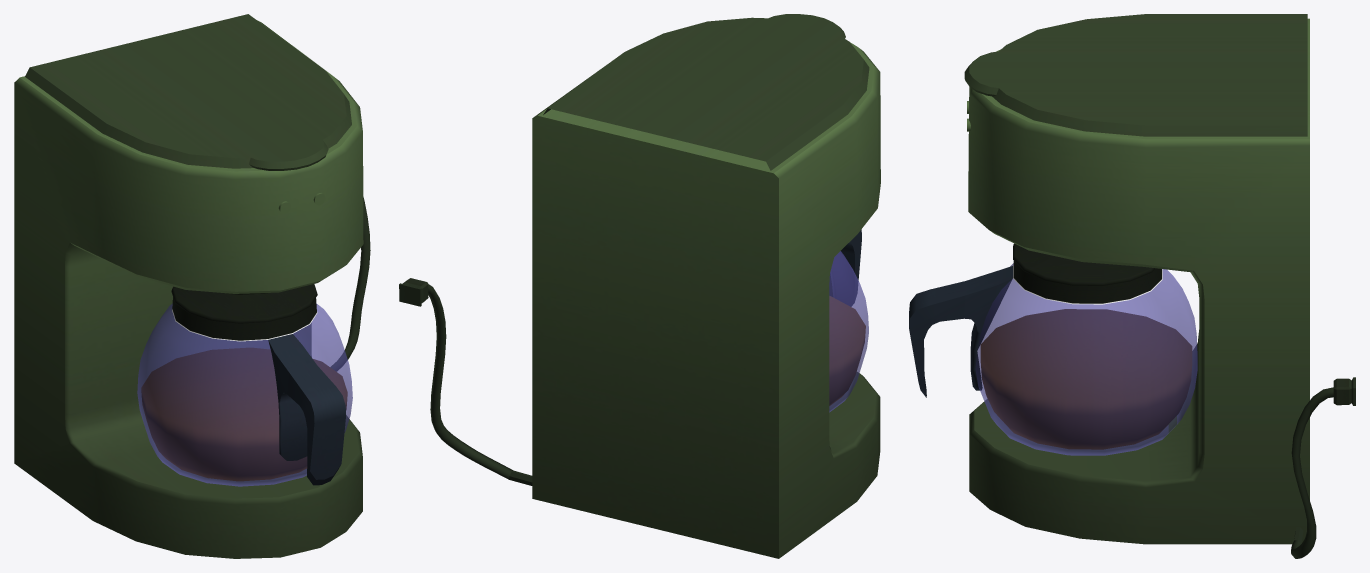
File: coffeemaker.fbx
3 views of the same model, side by side, from view 1: azimuth 30°, elevation 25°; view 2: azimuth 150°, elevation 25°; view 3: azimuth 270°, elevation 25° (orthographic). The views are drawn at different scales.
Parts seen in each view (by area): view 1: coffeemaker1; view 2: coffeemaker1; view 3: coffeemaker1.
Boxes of the visible parts, <box> form: coffeemaker1: <box>14,14,370,558</box>; coffeemaker1: <box>399,14,880,558</box>; coffeemaker1: <box>909,14,1355,558</box>.
Size of the model in its own units: 1.43 by 1.51 by 1.48.
